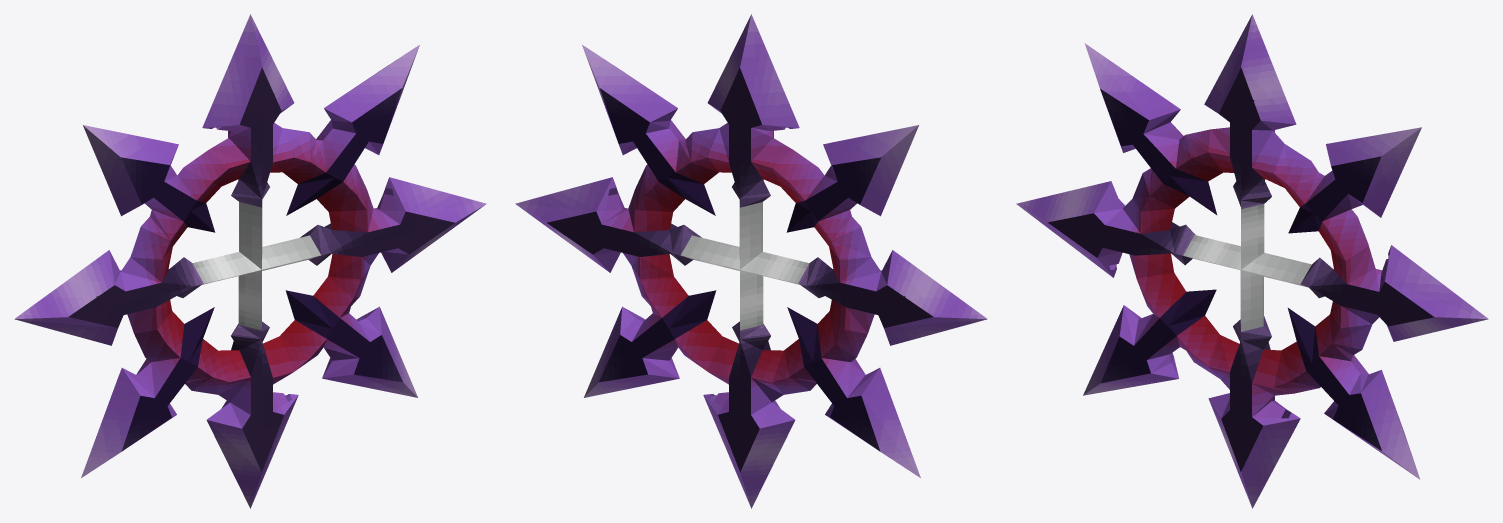
Rendered from ferriswheel.obj.
3 views of the same model, side by side, from view 1: azimuth 30°, elevation 25°; view 2: azimuth 150°, elevation 25°; view 3: azimuth 330°, elevation 25° (orthographic).
Size of the model in its own units: 59.68 by 59.68 by 5.
